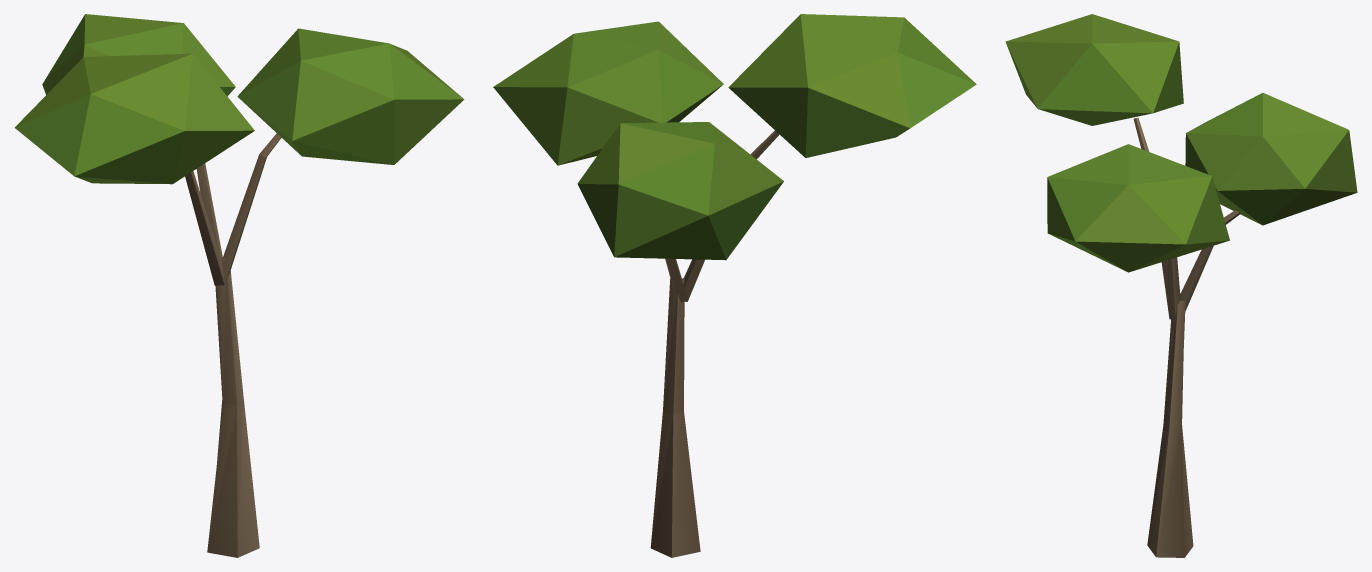
File: canopy_b_far.glb
The picture shows the model from 3 angles, left to right: view 1: azimuth 30°, elevation 25°; view 2: azimuth 150°, elevation 25°; view 3: azimuth 270°, elevation 25°; orthographic projection. The views are drawn at different scales.
Parts seen in each view (by area): view 1: canopy_b_far_leafy, canopy_b_far_solid; view 2: canopy_b_far_leafy, canopy_b_far_solid; view 3: canopy_b_far_leafy, canopy_b_far_solid.
Part boxes in pixels (<box>): canopy_b_far_leafy: <box>14,14,464,184</box>; canopy_b_far_solid: <box>185,133,281,557</box>; canopy_b_far_leafy: <box>493,14,976,260</box>; canopy_b_far_solid: <box>650,130,779,557</box>; canopy_b_far_leafy: <box>1005,14,1357,272</box>; canopy_b_far_solid: <box>1133,117,1240,557</box>.
Bounding box in the file's own units: 9.14 × 11.37 × 7.71.
